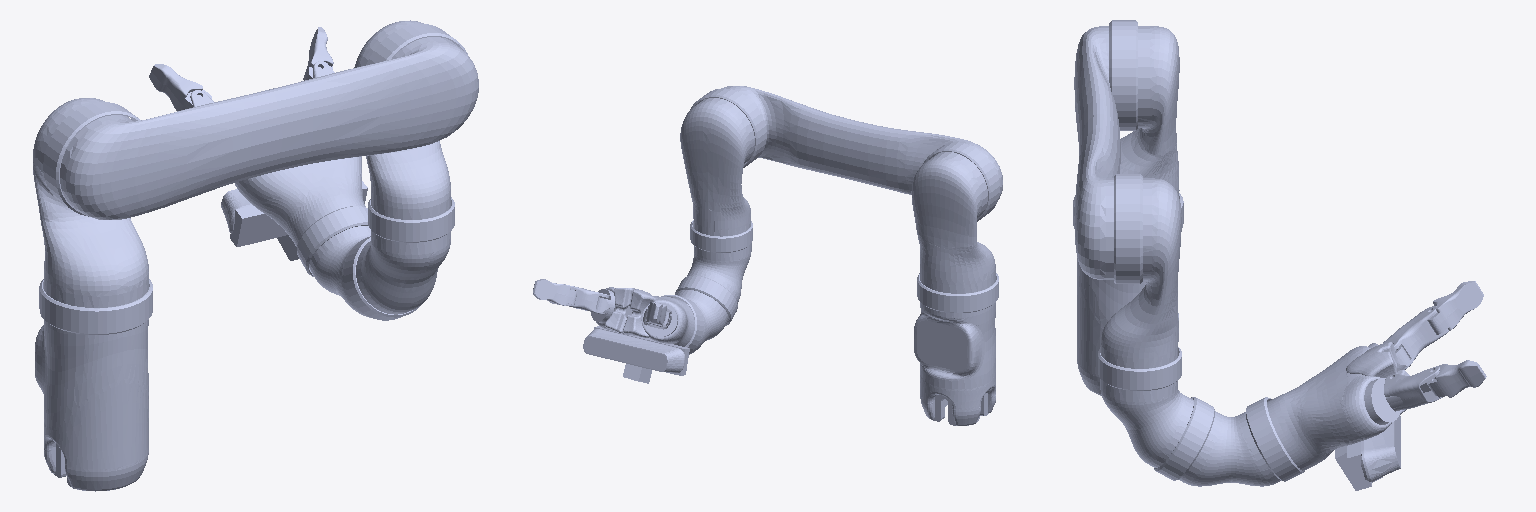
The robot description file, URDF, robot "ADA":
<?xml version="1.0" ?>
<!-- =================================================================================== -->
<!-- |    This document was autogenerated by xacro from standalone_mico.xacro          | -->
<!-- |    EDITING THIS FILE BY HAND IS NOT RECOMMENDED                                 | -->
<!-- =================================================================================== -->
<robot name="ADA" xmlns:body="http://playerstage.sourceforge.net/gazebo/xmlschema/#body" xmlns:controller="http://playerstage.sourceforge.net/gazebo/xmlschema/#controller" xmlns:gazebo="http://playerstage.sourceforge.net/gazebo/xmlschema/#gz" xmlns:geom="http://playerstage.sourceforge.net/gazebo/xmlschema/#geom" xmlns:interface="http://playerstage.sourceforge.net/gazebo/xmlschema/#interface" xmlns:joint="http://playerstage.sourceforge.net/gazebo/xmlschema/#joint" xmlns:model="http://playerstage.sourceforge.net/gazebo/xmlschema/#model" xmlns:physics="http://playerstage.sourceforge.net/gazebo/xmlschema/#physics" xmlns:renderable="http://playerstage.sourceforge.net/gazebo/xmlschema/#renderable" xmlns:rendering="http://playerstage.sourceforge.net/gazebo/xmlschema/#rendering" xmlns:sensor="http://playerstage.sourceforge.net/gazebo/xmlschema/#sensor" xmlns:xacro="http://ros.org/wiki/xacro" xmlns:xi="http://www.w3.org/2001/XInclude">
  <!-- Base link with continuous joint at the output -->
  <!-- Suggested parameters: mico link_base link_1 joint_1 -->
  <!-- Shoulder link with revolute joint at the output -->
  <!-- Suggested parameters: mico link_1 link_2 joint_2 -->
  <!-- Upper arm link with revolute joint at the output -->
  <!-- Suggested parameters: mico link_2 link_3 joint_3 -->
  <!-- Lower arm link with revolute joint at the output -->
  <!-- Suggested parameters: mico link_3 link_4 joint_4 -->
  <!-- Wrist link with continuous joint at the output -->
  <!-- Suggested parameters (for first link): mico link_4 link_5 joint_5 -->
  <!-- Wrist link with continuous joint at the output -->
  <!-- Suggested parameters (for first link): mico link_4 link_5 joint_5 -->
  <!-- Joint-Link pair for a single finger. -->
  <!-- Suggested parameters: jaco2 jaco2_link_hand 1 (origin xyz) (origin rpy) -->
  <!-- Hand link with three finger joints -->
  <!-- Suggested parameters (for first link): mico link_hand -->
  <!-- Base link model -->
  <link name="mico_link_base">
    <inertial>
      <origin rpy="0 0 0" xyz="0 0 0.07625"/>
      <mass value="1.000"/>
      <inertia ixx="2.5e-3" ixy="0.00" ixz="0.00" iyy="2.50e-3" iyz="0.00" izz="1.25e-3"/>
    </inertial>
    <visual>
      <geometry>
        <mesh filename="package://harmonic_playback/meshes/mico_link_base.dae"/>
      </geometry>
      <material name="carbon_fiber">
        <color rgba="0.792156862745098 0.819607843137255 0.933333333333333 1"/>
      </material>
    </visual>
    <collision>
      <geometry>
        <mesh filename="package://harmonic_playback/meshes/mico_link_base.dae"/>
      </geometry>
    </collision>
  </link>
  <!-- First rotation (yaw) -->
  <joint name="mico_joint_1" type="continuous">
    <parent link="mico_link_base"/>
    <child link="mico_link_1"/>
    <axis xyz="0 0 -1"/>
    <limit effort="30" velocity="0.84"/>
    <origin rpy="3.14159265359 0 3.14159265359" xyz="0 0 0.1535"/>
  </joint>
  <transmission name="mico_joint_1_trans">
    <type>transmission_interface/SimpleTransmission</type>
    <joint name="mico_joint_1">
      <hardwareInterface>PositionJointInterface</hardwareInterface>
      <hardwareInterface>VelocityJointInterface</hardwareInterface>
      <hardwareInterface>EffortJointInterface</hardwareInterface>
    </joint>
    <actuator name="mico_joint_1_motor">
      <mechanicalReduction>1.0</mechanicalReduction>
    </actuator>
  </transmission>
  <!-- Base link model -->
  <link name="mico_link_1">
    <inertial>
      <origin rpy="0 0 0" xyz="-0.0077 0.000 -0.0728"/>
      <mass value="0.825"/>
      <inertia ixx="6.18e-4" ixy="4.54e-8" ixz="9.82e-4" iyy="5.72e-4" iyz="-1.26e-8" izz="2.58e-4"/>
    </inertial>
    <visual>
      <geometry>
        <mesh filename="package://harmonic_playback/meshes/mico_link_1.dae"/>
      </geometry>
      <material name="carbon_fiber">
        <color rgba="0.792156862745098 0.819607843137255 0.933333333333333 1"/>
      </material>
    </visual>
    <collision>
      <geometry>
        <mesh filename="package://harmonic_playback/meshes/mico_link_1.dae"/>
      </geometry>
    </collision>
  </link>
  <!-- Second rotation (shoulder pitch) -->
  <joint name="mico_joint_2" type="revolute">
    <parent link="mico_link_1"/>
    <child link="mico_link_2"/>
    <origin rpy="-1.57079632679 3.14159265359 0" xyz="0 0 -0.1185"/>
    <axis xyz="0 0 1"/>
    <limit effort="30" lower="-3.8451785" upper="0.7035858" velocity="0.8425"/>
  </joint>
  <transmission name="mico_joint_2_trans">
    <type>transmission_interface/SimpleTransmission</type>
    <joint name="mico_joint_2">
      <hardwareInterface>PositionJointInterface</hardwareInterface>
      <hardwareInterface>VelocityJointInterface</hardwareInterface>
      <hardwareInterface>EffortJointInterface</hardwareInterface>
    </joint>
    <actuator name="mico_joint_2_motor">
      <mechanicalReduction>1.0</mechanicalReduction>
    </actuator>
  </transmission>
  <!-- Base link model -->
  <link name="mico_link_2">
    <inertial>
      <origin rpy="0 0 0" xyz="0.1441 0.000 -0.0261"/>
      <mass value="1.215"/>
      <inertia ixx="4.33e-4" ixy="2.31e-7" ixz="-1.61e-6" iyy="7.18e-3" iyz="8.58e-8" izz="7.44e-3"/>
    </inertial>
    <visual>
      <geometry>
        <mesh filename="package://harmonic_playback/meshes/mico_link_2.dae"/>
      </geometry>
      <material name="carbon_fiber">
        <color rgba="0.792156862745098 0.819607843137255 0.933333333333333 1"/>
      </material>
    </visual>
    <collision>
      <geometry>
        <mesh filename="package://harmonic_playback/meshes/mico_link_2.dae"/>
      </geometry>
    </collision>
  </link>
  <joint name="mico_joint_3" type="revolute">
    <parent link="mico_link_2"/>
    <child link="mico_link_3"/>
    <origin rpy="3.14159265359 0 1.57079632679" xyz="0.29 0 0"/>
    <axis xyz="0 0 -1"/>
    <limit effort="30" lower="-4.104090" upper="0.95768524" velocity="0.83"/>
  </joint>
  <transmission name="mico_joint_3_trans">
    <type>transmission_interface/SimpleTransmission</type>
    <joint name="mico_joint_3">
      <hardwareInterface>PositionJointInterface</hardwareInterface>
      <hardwareInterface>VelocityJointInterface</hardwareInterface>
      <hardwareInterface>EffortJointInterface</hardwareInterface>
    </joint>
    <actuator name="mico_joint_3_motor">
      <mechanicalReduction>1.0</mechanicalReduction>
    </actuator>
  </transmission>
  <!-- Base link model -->
  <link name="mico_link_3">
    <inertial>
      <origin rpy="0 0 0" xyz="0.0396 0.0000 -0.0215"/>
      <mass value="0.775"/>
      <inertia ixx="2.28e-4" ixy="-5.09e-8" ixz="-3.87e-5" iyy="3.88e-4" iyz="6.63e-8" izz="4.42e-4"/>
    </inertial>
    <visual>
      <geometry>
        <mesh filename="package://harmonic_playback/meshes/mico_link_3.dae"/>
      </geometry>
      <material name="carbon_fiber">
        <color rgba="0.792156862745098 0.819607843137255 0.933333333333333 1"/>
      </material>
    </visual>
    <collision>
      <geometry>
        <mesh filename="package://harmonic_playback/meshes/mico_link_3.dae"/>
      </geometry>
    </collision>
  </link>
  <joint name="mico_joint_4" type="continuous">
    <parent link="mico_link_3"/>
    <child link="mico_link_4"/>
    <origin rpy="3.14159265359 1.57079632679 0" xyz="0.123 0 -0.00845"/>
    <axis xyz="0 0 -1"/>
    <limit effort="30" velocity="0.84"/>
  </joint>
  <transmission name="mico_joint_4_trans">
    <type>transmission_interface/SimpleTransmission</type>
    <joint name="mico_joint_4">
      <hardwareInterface>PositionJointInterface</hardwareInterface>
      <hardwareInterface>VelocityJointInterface</hardwareInterface>
      <hardwareInterface>EffortJointInterface</hardwareInterface>
    </joint>
    <actuator name="mico_joint_4_motor">
      <mechanicalReduction>1.0</mechanicalReduction>
    </actuator>
  </transmission>
  <!-- Base link model -->
  <link name="mico_link_4">
    <inertial>
      <origin rpy="0 0 0" xyz="0.0083 0.0000 -0.0378"/>
      <mass value="0.415"/>
      <inertia ixx="5.45e-5" ixy="3.27e-8" ixz="-1.77e-8" iyy="5.53e-5" iyz="-5.56e-6" izz="4.87e-5"/>
    </inertial>
    <visual>
      <geometry>
        <mesh filename="package://harmonic_playback/meshes/mico_link_4.dae"/>
      </geometry>
      <material name="carbon_fiber">
        <color rgba="0.792156862745098 0.819607843137255 0.933333333333333 1"/>
      </material>
    </visual>
    <collision>
      <geometry>
        <mesh filename="package://harmonic_playback/meshes/mico_link_4.dae"/>
      </geometry>
    </collision>
  </link>
  <joint name="mico_joint_5" type="continuous">
    <parent link="mico_link_4"/>
    <child link="mico_link_5"/>
    <origin rpy="0 -1.0471975512 0" xyz="0.037 0 -0.06408"/>
    <axis xyz="0 0 -1"/>
    <limit effort="30" velocity="0.84"/>
  </joint>
  <transmission name="mico_joint_5_trans">
    <type>transmission_interface/SimpleTransmission</type>
    <joint name="mico_joint_5">
      <hardwareInterface>PositionJointInterface</hardwareInterface>
      <hardwareInterface>VelocityJointInterface</hardwareInterface>
      <hardwareInterface>EffortJointInterface</hardwareInterface>
    </joint>
    <actuator name="mico_joint_5_motor">
      <mechanicalReduction>1.0</mechanicalReduction>
    </actuator>
  </transmission>
  <!-- Base link model -->
  <link name="mico_link_5">
    <inertial>
      <origin rpy="0 0 0" xyz="0.0083 0.0000 -0.0378"/>
      <mass value="0.415"/>
      <inertia ixx="5.45e-5" ixy="3.27e-8" ixz="-1.77e-8" iyy="5.53e-5" iyz="-5.56e-6" izz="4.87e-5"/>
    </inertial>
    <visual>
      <geometry>
        <mesh filename="package://harmonic_playback/meshes/mico_link_4.dae"/>
      </geometry>
      <material name="carbon_fiber">
        <color rgba="0.792156862745098 0.819607843137255 0.933333333333333 1"/>
      </material>
    </visual>
    <collision>
      <geometry>
        <mesh filename="package://harmonic_playback/meshes/mico_link_4.dae"/>
      </geometry>
    </collision>
  </link>
  <joint name="mico_joint_6" type="continuous">
    <parent link="mico_link_5"/>
    <child link="mico_link_hand"/>
    <origin rpy="-1.0471975512 0 1.57079632679" xyz="0.037 0 -0.06408"/>
    <axis xyz="0 0 -1"/>
    <limit effort="30" velocity="0.84"/>
  </joint>
  <transmission name="mico_joint_6_trans">
    <type>transmission_interface/SimpleTransmission</type>
    <joint name="mico_joint_6">
      <hardwareInterface>PositionJointInterface</hardwareInterface>
      <hardwareInterface>VelocityJointInterface</hardwareInterface>
      <hardwareInterface>EffortJointInterface</hardwareInterface>
    </joint>
    <actuator name="mico_joint_6_motor">
      <mechanicalReduction>1.0</mechanicalReduction>
    </actuator>
  </transmission>
  <!-- Base link model -->
  <link name="mico_link_hand">
    <inertial>
      <origin rpy="0 0 0" xyz="0.0034 0.0000 -0.0808"/>
      <mass value="0.557"/>
      <inertia ixx="1.51e-6" ixy="-1.90e-10" ixz="-4.87e-9" iyy="1.14e-5" iyz="1.52e-8" izz="1.05e-5"/>
    </inertial>
    <visual>
      <geometry>
        <mesh filename="package://harmonic_playback/meshes/mico_link_hand.dae"/>
        <!-- <mesh filename="package://harmonic_playback/meshes/Hand_Link_camera.STL"/>  -->
      </geometry>
      <material name="carbon_fiber">
        <color rgba="0.792156862745098 0.819607843137255 0.933333333333333 1"/>
      </material>
    </visual>
    <collision>
      <geometry>
        <mesh filename="package://harmonic_playback/meshes/mico_link_hand.dae"/>
        <!-- <mesh filename="package://harmonic_playback/meshes/Hand_Link_camera.STL"/>  -->
      </geometry>
    </collision>
  </link>
  <link
    name="Camera_Depth_Frame">
    <inertial>
      <origin
        xyz="0 0 0"
        rpy="0 0 0" />
      <mass
        value="0.05" />
      <inertia
        ixx="0"
        ixy="0"
        ixz="0"
        iyy="0"
        iyz="0"
        izz="0" />
    </inertial>
  </link>
   <joint
    name="Camera_Joint" type = "fixed">
    <origin
      xyz="-0.047 0.05 -0.090 "
      rpy="-2.92 0.000 0" />
    <parent
      link="mico_link_hand" />
    <child
      link="Camera_Depth_Frame" />
  </joint>
  <joint
    name="Camera_Depth_Joint" type = "fixed">
    <origin
      xyz="0.045 -0.015 -0.03"
      rpy="0 0.000 0" />
    <parent
      link="Camera_Depth_Frame" />
    <child
      link="Camera_RGB_Frame" />
  </joint>
   <link
    name="Camera_RGB_Frame">
        <inertial>
      <origin
        xyz="0 0 0"
        rpy="0 0 0" />
      <mass
        value="0.05" />
      <inertia
        ixx="0"
        ixy="0"
        ixz="0"
        iyy="0"
        iyz="0"
        izz="0" />
    </inertial>
  </link>
  
  <link
    name="Camera_Collision_Frame">
    <inertial>
      <origin
        xyz="0 0 0"
        rpy="0 0 0" />
      <mass
        value="0.05" />
      <inertia
        ixx="0"
        ixy="0"
        ixz="0"
        iyy="0"
        iyz="0"
        izz="0" />
    </inertial>
    <visual>
      <geometry>
        <!--<mesh filename="package://harmonic_playback/meshes/StructureIO.stl"/>-->
        <mesh filename="package://harmonic_playback/meshes/structureio.dae"/>
        <!-- <mesh filename="package://harmonic_playback/meshes/Hand_Link_camera.STL"/>  -->
      </geometry>
      <material name="carbon_fiber">
        <color rgba="0.792156862745098 0.819607843137255 0.933333333333333 1"/>
      </material>
    </visual>
    <collision>
      <geometry>
        <mesh filename="package://harmonic_playback/meshes/StructureIO.stl"/>
        <!-- <mesh filename="package://harmonic_playback/meshes/Hand_Link_camera.STL"/>  -->
      </geometry>
    </collision>
  </link>
   <joint
    name="Camera_Collision_Joint" type = "fixed">
    <origin
      xyz="0 0 0"
      rpy="0 0 0" />
    <parent
      link="mico_link_hand" />
    <child
      link="Camera_Collision_Frame" />
  </joint>
  <link name="mico_link_finger_1">
    <inertial>
      <origin rpy="0 0 0" xyz="0.020 -0.015 0"/>
      <mass value="0.010"/>
      <inertia ixx="5.00e-5" ixy="0" ixz="0" iyy="1.58e-5" iyz="0" izz="1.58e-4"/>
    </inertial>
    <visual>
      <geometry>
        <mesh filename="package://harmonic_playback/meshes/finger_proximal_limb_1.dae"/>
      </geometry>
      <material name="carbon_fiber">
        <color rgba="0.792156862745098 0.819607843137255 0.933333333333333 1"/>
      </material>
    </visual>
    <collision>
      <geometry>
        <mesh filename="package://harmonic_playback/meshes/finger_proximal_limb_1.dae"/>
      </geometry>
    </collision>
  </link>
  <joint name="mico_joint_finger_1" type="revolute">
    <parent link="mico_link_hand"/>
    <child link="mico_link_finger_1"/>
    <axis xyz="0 0 1"/>
    <origin rpy="1.57079632679 1.57079632679 0" xyz="-0.03095 -0.0025 -0.116"/>
    <limit effort="30" lower="0" upper="1.35" velocity="0.785398163"/>
  </joint>
  <transmission name="mico_joint_finger_1_trans">
    <type>transmission_interface/SimpleTransmission</type>
    <joint name="mico_joint_finger_1">
      <hardwareInterface>PositionJointInterface</hardwareInterface>
      <hardwareInterface>VelocityJointInterface</hardwareInterface>
      <hardwareInterface>EffortJointInterface</hardwareInterface>
    </joint>
    <actuator name="mico_joint_finger_1_motor">
      <mechanicalReduction>1.0</mechanicalReduction>
    </actuator>
  </transmission>
  <link name="mico_link_finger_tip_1">
    <inertial>
      <origin rpy="0 0 0" xyz="0.020 -0.015 0"/>
      <mass value="0.010"/>
      <inertia ixx="5.00e-7" ixy="0" ixz="0" iyy="1.58e-6" iyz="0" izz="1.58e-6"/>
    </inertial>
    <visual>
      <geometry>
        <mesh filename="package://harmonic_playback/meshes/finger_distal_limb_1.dae"/>
      </geometry>
      <material name="carbon_fiber">
        <color rgba="0.792156862745098 0.819607843137255 0.933333333333333 1"/>
      </material>
    </visual>
    <collision>
      <geometry>
        <mesh filename="package://harmonic_playback/meshes/finger_distal_limb_1.dae"/>
      </geometry>
    </collision>
  </link>
  <!-- The tip joint is fixed for now, but the revolute version is
             available under it -->
  <joint name="mico_joint_finger_tip_1" type="fixed">
    <parent link="mico_link_finger_1"/>
    <child link="mico_link_finger_tip_1"/>
    <axis xyz="0 0 1"/>
    <origin rpy="0 0 0" xyz="0.035 -0.0295 -0.0025"/>
  </joint>
  <!--
        <joint name="${prefix}_joint_finger_tip_${suffix}" type="revolute">
            <parent link="${prefix}_link_finger_${suffix}"/>
            <child link="${prefix}_link_finger_tip_${suffix}"/>
            <axis xyz="0 0 1"/>
            <origin xyz="0.035 -0.0295 -0.0025" rpy="0 0 0"/>
            <limit lower="0" upper="${J_PI/180*40}" effort="30" velocity="5"/>
         </joint>
         <transmission name="${prefix}_joint_finger_tip_${suffix}_trans">
            <type>transmission_interface/SimpleTransmission</type>
            <joint name="${prefix}_joint_finger_tip_${suffix}">
                <hardwareInterface>EffortJointInterface</hardwareInterface>
            </joint>
            <actuator name="${prefix}_joint_finger_tip_${suffix}_motor">
                <mechanicalReduction>1.0</mechanicalReduction>
            </actuator>
        </transmission>
        -->
  <link name="mico_link_finger_2">
    <inertial>
      <origin rpy="0 0 0" xyz="0.020 -0.015 0"/>
      <mass value="0.010"/>
      <inertia ixx="5.00e-5" ixy="0" ixz="0" iyy="1.58e-5" iyz="0" izz="1.58e-4"/>
    </inertial>
    <visual>
      <geometry>
        <mesh filename="package://harmonic_playback/meshes/finger_proximal_limb_1.dae"/>
      </geometry>
      <material name="carbon_fiber">
        <color rgba="0.792156862745098 0.819607843137255 0.933333333333333 1"/>
      </material>
    </visual>
    <collision>
      <geometry>
        <mesh filename="package://harmonic_playback/meshes/finger_proximal_limb_1.dae"/>
      </geometry>
    </collision>
  </link>
  <joint name="mico_joint_finger_2" type="revolute">
    <parent link="mico_link_hand"/>
    <child link="mico_link_finger_2"/>
    <axis xyz="0 0 1"/>
    <origin rpy="-1.57079632679 1.57079632679 0" xyz="0.03095 -0.0025 -0.116"/>
    <limit effort="30" lower="0" upper="1.35" velocity="0.785398163"/>
  </joint>
  <transmission name="mico_joint_finger_2_trans">
    <type>transmission_interface/SimpleTransmission</type>
    <joint name="mico_joint_finger_2">
      <hardwareInterface>PositionJointInterface</hardwareInterface>
      <hardwareInterface>VelocityJointInterface</hardwareInterface>
      <hardwareInterface>EffortJointInterface</hardwareInterface>
    </joint>
    <actuator name="mico_joint_finger_2_motor">
      <mechanicalReduction>1.0</mechanicalReduction>
    </actuator>
  </transmission>
  <link name="mico_link_finger_tip_2">
    <inertial>
      <origin rpy="0 0 0" xyz="0.020 -0.015 0"/>
      <mass value="0.010"/>
      <inertia ixx="5.00e-7" ixy="0" ixz="0" iyy="1.58e-6" iyz="0" izz="1.58e-6"/>
    </inertial>
    <visual>
      <geometry>
        <mesh filename="package://harmonic_playback/meshes/finger_distal_limb_1.dae"/>
      </geometry>
      <material name="carbon_fiber">
        <color rgba="0.792156862745098 0.819607843137255 0.933333333333333 1"/>
      </material>
    </visual>
    <collision>
      <geometry>
        <mesh filename="package://harmonic_playback/meshes/finger_distal_limb_1.dae"/>
      </geometry>
    </collision>
  </link>
  <!-- The tip joint is fixed for now, but the revolute version is
             available under it -->
  <joint name="mico_joint_finger_tip_2" type="fixed">
    <parent link="mico_link_finger_2"/>
    <child link="mico_link_finger_tip_2"/>
    <axis xyz="0 0 1"/>
    <origin rpy="0 0 0" xyz="0.035 -0.0295 -0.0025"/>
  </joint>
  <!--
        <joint name="${prefix}_joint_finger_tip_${suffix}" type="revolute">
            <parent link="${prefix}_link_finger_${suffix}"/>
            <child link="${prefix}_link_finger_tip_${suffix}"/>
            <axis xyz="0 0 1"/>
            <origin xyz="0.035 -0.0295 -0.0025" rpy="0 0 0"/>
            <limit lower="0" upper="${J_PI/180*40}" effort="30" velocity="5"/>
         </joint>
         <transmission name="${prefix}_joint_finger_tip_${suffix}_trans">
            <type>transmission_interface/SimpleTransmission</type>
            <joint name="${prefix}_joint_finger_tip_${suffix}">
                <hardwareInterface>EffortJointInterface</hardwareInterface>
            </joint>
            <actuator name="${prefix}_joint_finger_tip_${suffix}_motor">
                <mechanicalReduction>1.0</mechanicalReduction>
            </actuator>
        </transmission>
        -->
  <!-- End effector offset -->
  <joint name="mico_link_hand_to_end_effector" type="fixed">
    <parent link="mico_link_hand"/>
    <child link="mico_end_effector"/>
    <origin rpy="0 3.14159265359 0" xyz="0 0 -0.1687"/>
  </joint>
  <link name="mico_end_effector"/>

  <!-- Fork tip when available -->
  <joint name="mico_end_effector_to_fork_tip" type="fixed">
    <parent link="mico_end_effector" />
    <child link="mico_fork_tip" />
    <origin rpy="-0.09817476977 1.57079632679 0" xyz="-0.2765016 -0.02133217 -0.0012" />
  </joint>
  <link name="mico_fork_tip" />

  <!-- Used to fix the model to the ground in Gazebo. -->
  <link name="world"/>
  <joint name="world_2_base_fixed" type="fixed">
    <parent link="world"/>
    <child link="mico_link_base"/>
    <origin rpy="0 0 0" xyz="0 0 0"/>
  </joint>
  <gazebo reference="mico_link_base">
    <material>Gazebo/Black</material>
    <selfCollide>false</selfCollide>
    <gravity>false</gravity>
  </gazebo>
  <gazebo>
    <plugin filename="libgazebo_ros_control.so" name="gazebo_ros_control"/>
  </gazebo>
</robot>

--- Facts derived from the render (not from the file) ---
The picture shows the robot from 3 angles, left to right: view 1: azimuth 30°, elevation 25°; view 2: azimuth 150°, elevation 25°; view 3: azimuth 270°, elevation 25°; orthographic projection.
Robot: ADA — 17 links, 16 joints (4 revolute, 4 continuous, 8 fixed); root link world; default pose: every joint at zero.
Links seen in each view (by area): view 1: mico_link_2, mico_link_base, mico_link_1, mico_link_3, mico_link_4, mico_link_hand, mico_link_5, Camera_Collision_Frame, mico_link_finger_tip_2, mico_link_finger_tip_1; view 2: mico_link_2, mico_link_1, mico_link_base, mico_link_3, mico_link_hand, Camera_Collision_Frame, mico_link_4, mico_link_5, mico_link_finger_tip_1, mico_link_finger_1; view 3: mico_link_2, mico_link_3, mico_link_hand, mico_link_1, mico_link_4, mico_link_5, mico_link_base, Camera_Collision_Frame, mico_link_finger_1, mico_link_finger_tip_2, mico_link_finger_2, mico_link_finger_tip_1.
Boxes of the visible links, left/top/right/bottom form: mico_link_2: left=60, top=24, right=478, bottom=219; mico_link_base: left=35, top=279, right=152, bottom=491; mico_link_1: left=33, top=98, right=148, bottom=307; mico_link_3: left=354, top=20, right=454, bottom=242; mico_link_4: left=344, top=231, right=450, bottom=320; mico_link_hand: left=235, top=156, right=365, bottom=246; mico_link_5: left=297, top=206, right=370, bottom=317; Camera_Collision_Frame: left=221, top=181, right=367, bottom=260; mico_link_finger_tip_2: left=149, top=64, right=211, bottom=110; mico_link_finger_tip_1: left=303, top=27, right=333, bottom=80; mico_link_2: left=690, top=86, right=1002, bottom=199; mico_link_1: left=911, top=142, right=999, bottom=293; mico_link_base: left=914, top=273, right=998, bottom=425; mico_link_3: left=680, top=98, right=754, bottom=252; mico_link_hand: left=591, top=287, right=694, bottom=346; Camera_Collision_Frame: left=583, top=326, right=689, bottom=383; mico_link_4: left=675, top=243, right=751, bottom=325; mico_link_5: left=661, top=290, right=728, bottom=354; mico_link_finger_tip_1: left=533, top=279, right=576, bottom=305; mico_link_finger_1: left=564, top=284, right=609, bottom=314; mico_link_2: left=1074, top=26, right=1142, bottom=283; mico_link_3: left=1098, top=178, right=1181, bottom=390; mico_link_hand: left=1267, top=342, right=1409, bottom=470; mico_link_1: left=1109, top=20, right=1179, bottom=195; mico_link_4: left=1100, top=379, right=1214, bottom=480; mico_link_5: left=1179, top=397, right=1304, bottom=486; mico_link_base: left=1073, top=193, right=1183, bottom=395; Camera_Collision_Frame: left=1335, top=415, right=1400, bottom=490; mico_link_finger_1: left=1384, top=366, right=1444, bottom=411; mico_link_finger_tip_2: left=1427, top=281, right=1483, bottom=334; mico_link_finger_2: left=1383, top=306, right=1448, bottom=369; mico_link_finger_tip_1: left=1426, top=360, right=1486, bottom=397.
Bounding box of the posed robot: 0.4117 × 0.3339 × 0.3179 m (x, y, z).
12 mesh visuals loaded from 9 distinct referenced files (9 Collada DAE).
